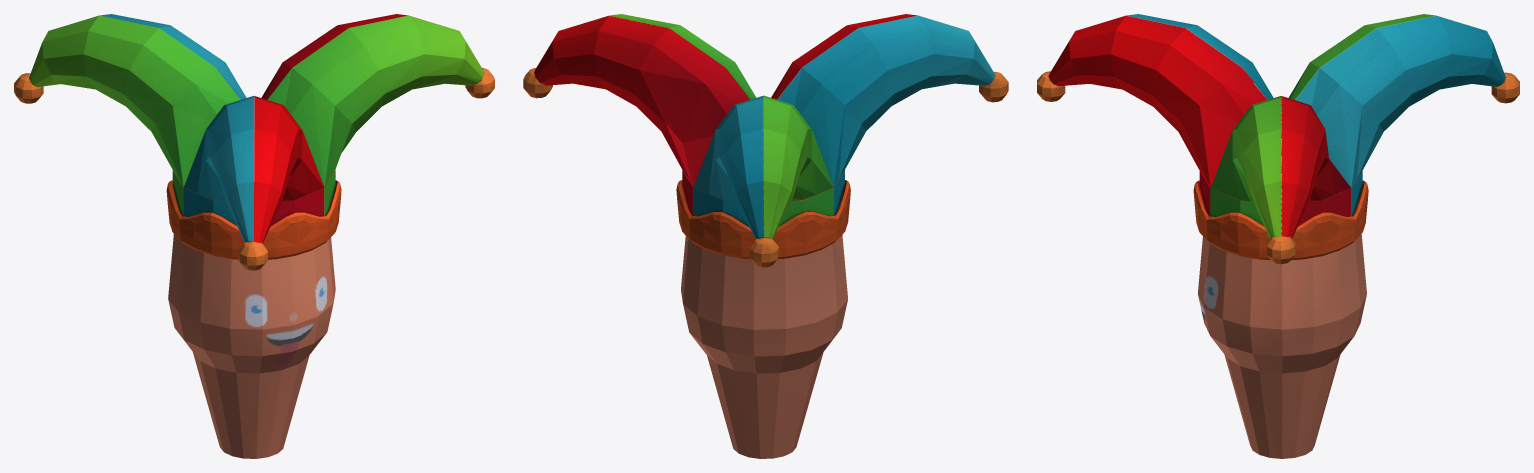
Rendered from head3.glb.
The picture shows the model from 3 angles, left to right: view 1: azimuth 30°, elevation 25°; view 2: azimuth 150°, elevation 25°; view 3: azimuth 270°, elevation 25°; orthographic projection.
Parts seen in each view (by area): view 1: head3_1; view 2: head3_1; view 3: head3_1.
Boxes of the visible parts, <box> form: head3_1: <box>14,14,494,458</box>; head3_1: <box>523,14,1008,458</box>; head3_1: <box>1037,14,1519,458</box>.
Size of the model in its own units: 4.07 by 4.17 by 4.62.
1 material, 1 textured.
